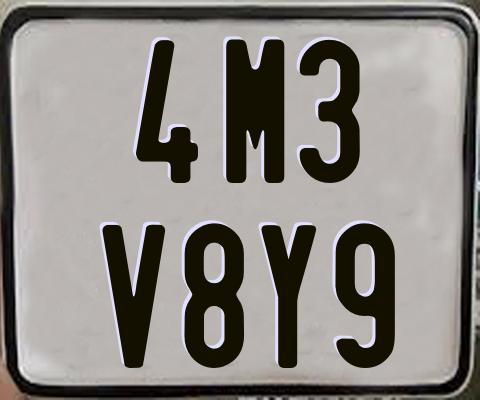3: (297, 39, 357, 185)
4: (136, 39, 198, 186)
8: (183, 221, 245, 372)
9: (335, 221, 398, 366)
M: (226, 37, 285, 184)
V: (100, 225, 165, 368)
Y: (258, 225, 313, 368)
